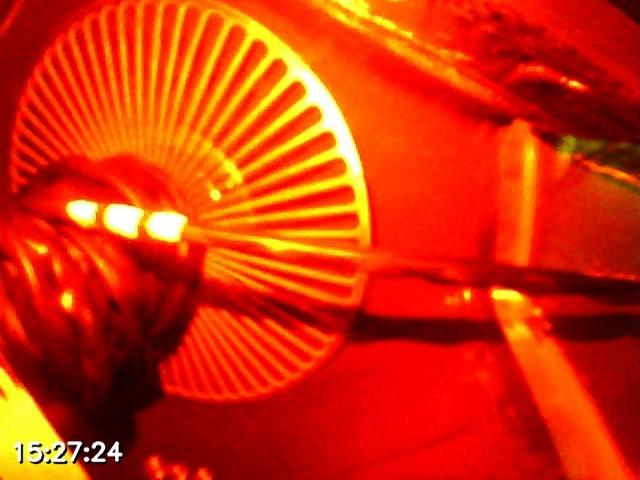white-dots: (65, 199, 189, 244)
